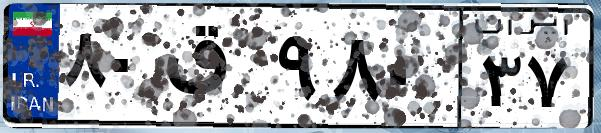0: (385, 28, 445, 110), (110, 28, 158, 98)
3: (475, 38, 525, 113)
7: (525, 38, 570, 115)
8: (330, 28, 385, 110), (57, 26, 110, 100)
9: (270, 28, 330, 110)
ق: (158, 20, 270, 120)
